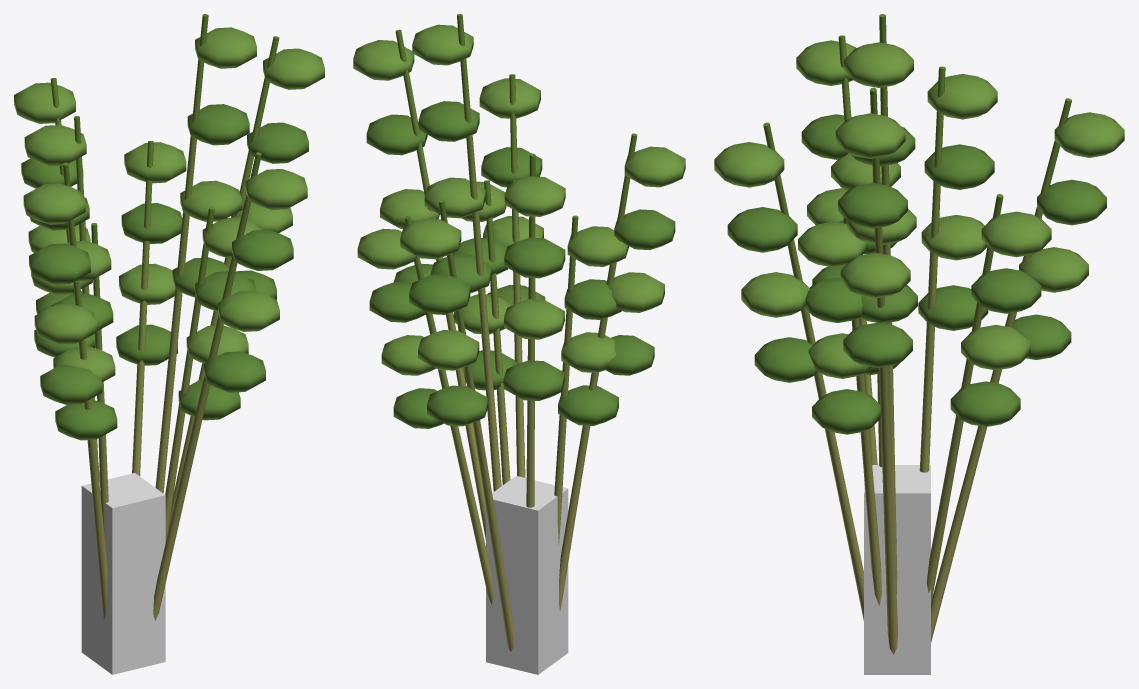
File: guadual.glb
3 views of the same model, side by side, from view 1: azimuth 30°, elevation 25°; view 2: azimuth 150°, elevation 25°; view 3: azimuth 270°, elevation 25° (orthographic). The views are drawn at different scales.
Visible parts, largest first — view 1: guadual_Malla, COL_0; view 2: guadual_Malla, COL_0; view 3: guadual_Malla, COL_0.
Part boxes in pixels (bbox=[...]): guadual_Malla: bbox=[14, 14, 324, 620]; COL_0: bbox=[81, 473, 165, 674]; guadual_Malla: bbox=[353, 14, 685, 651]; COL_0: bbox=[486, 476, 568, 674]; guadual_Malla: bbox=[714, 14, 1124, 654]; COL_0: bbox=[864, 465, 930, 674].
Bounding box in the file's own units: 5.89 × 11.33 × 6.14.
